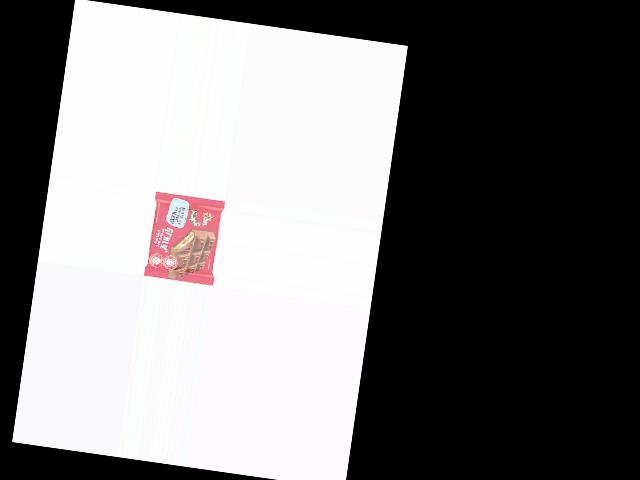chocolate: (143, 194, 224, 284)
